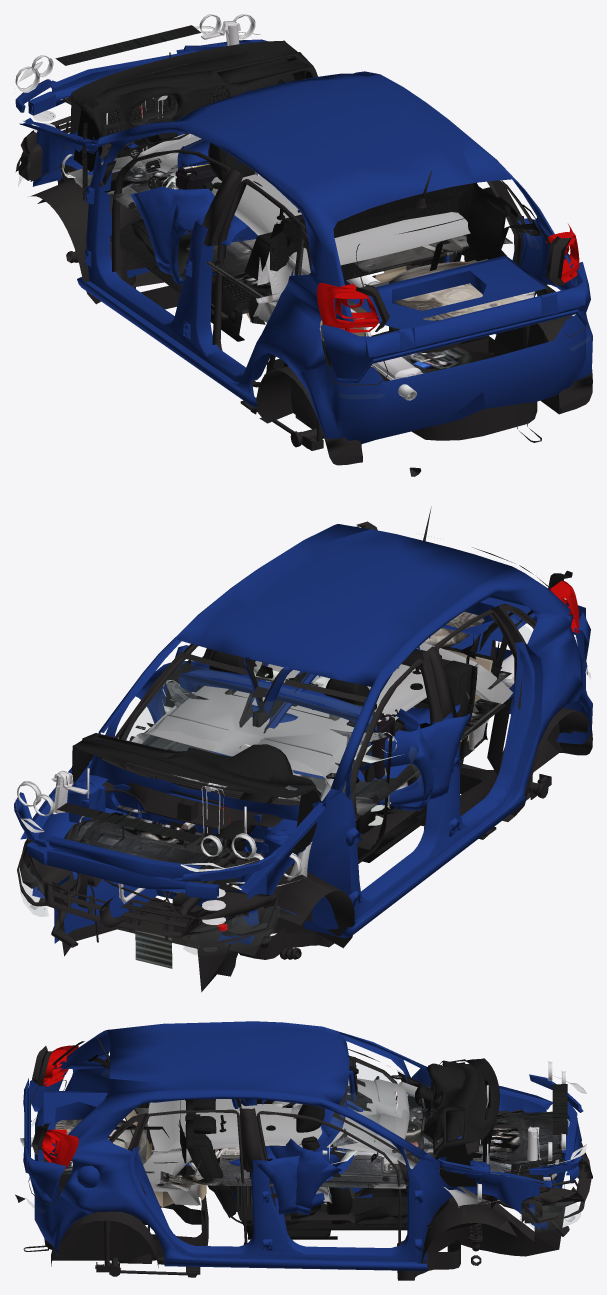
File: car-polo.glb
3 views of the same model, one above another, from view 1: azimuth 30°, elevation 25°; view 2: azimuth 150°, elevation 25°; view 3: azimuth 270°, elevation 25° (orthographic). The views are drawn at different scales.
Parts seen in each view (by area): view 1: chassis, interior And engine, bump_rear_ok, windscreen_ok, bumper_front_ok, boot_ok; view 2: chassis, interior And engine, windscreen_ok, bumper_front_ok, boot_ok, bump_rear_ok, bonnet_ok, door_rf_ok, door_lf_ok; view 3: chassis, interior And engine, windscreen_ok, bump_rear_ok, bumper_front_ok, boot_ok, door_lr_ok.
Boxes of the visible parts, left/top/right/bottom form: chassis: left=15, top=14, right=592, bottom=476; interior And engine: left=15, top=39, right=590, bottom=383; bump_rear_ok: left=130, top=186, right=257, bottom=274; windscreen_ok: left=18, top=137, right=590, bottom=398; bumper_front_ok: left=168, top=188, right=216, bottom=284; boot_ok: left=177, top=139, right=209, bottom=188; chassis: left=15, top=506, right=592, bottom=992; interior And engine: left=14, top=521, right=590, bottom=968; windscreen_ok: left=20, top=618, right=590, bottom=955; bumper_front_ok: left=175, top=645, right=471, bottom=806; boot_ok: left=178, top=669, right=408, bottom=767; bump_rear_ok: left=135, top=661, right=433, bottom=810; bonnet_ok: left=209, top=704, right=460, bottom=780; door_rf_ok: left=251, top=673, right=316, bottom=733; door_lf_ok: left=239, top=662, right=320, bottom=727; chassis: left=15, top=1021, right=592, bottom=1280; interior And engine: left=23, top=1041, right=583, bottom=1239; windscreen_ok: left=27, top=1062, right=580, bottom=1231; bump_rear_ok: left=270, top=1138, right=341, bottom=1215; bumper_front_ok: left=254, top=1147, right=349, bottom=1214; boot_ok: left=274, top=1089, right=347, bottom=1163; door_lr_ok: left=242, top=1070, right=356, bottom=1105.
Bounding box in the file's own units: 72184 × 63969 × 165396.
Materials: 36 (23 with a texture image).
